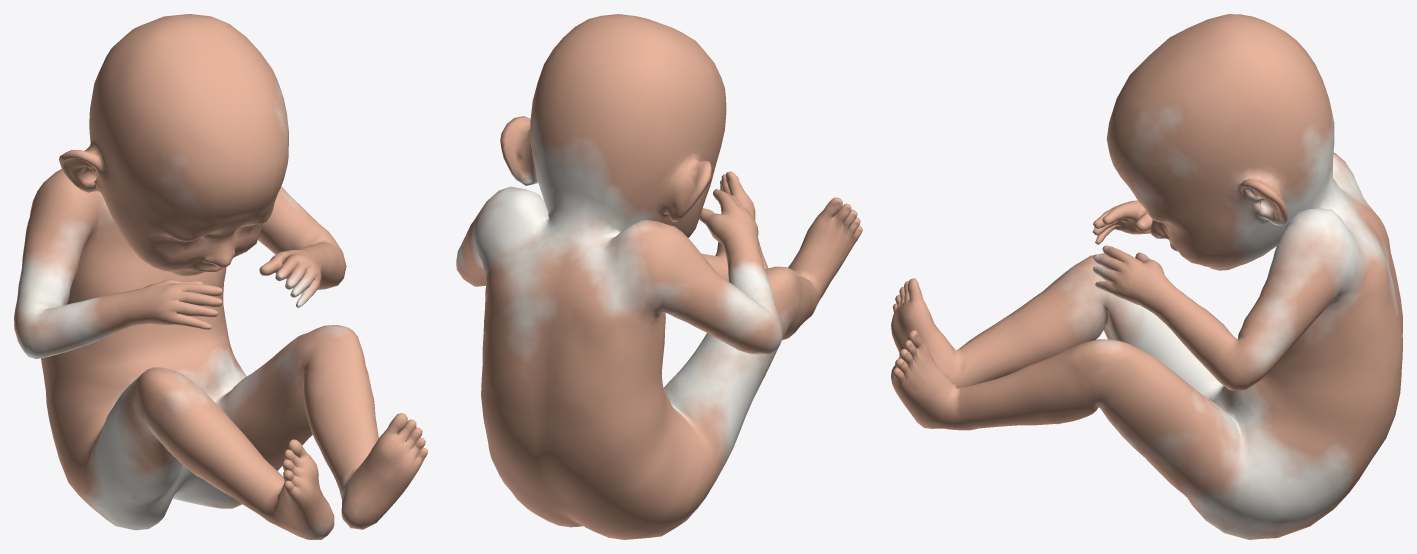
3 views of the same model, side by side, from view 1: azimuth 30°, elevation 25°; view 2: azimuth 150°, elevation 25°; view 3: azimuth 270°, elevation 25° (orthographic).
Parts seen in each view (by area): view 1: Baby; view 2: Baby; view 3: Baby.
Part boxes in pixels (box(x1,y1,x2,y2)): Baby: box(14, 14, 427, 539); Baby: box(456, 14, 862, 539); Baby: box(891, 14, 1402, 539).
Size of the model in its own units: 0.2477 by 0.3674 by 0.3456.
Materials: 1 (1 with a texture image).
